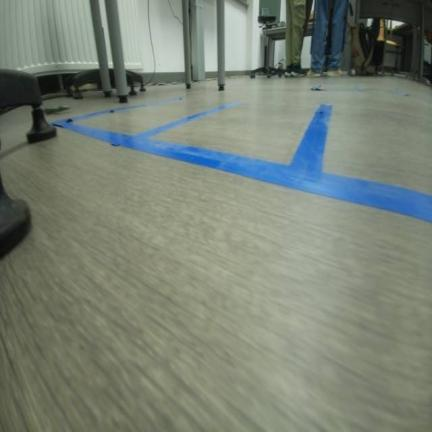place: (276, 98, 431, 222), (122, 96, 337, 184), (49, 96, 249, 149)
